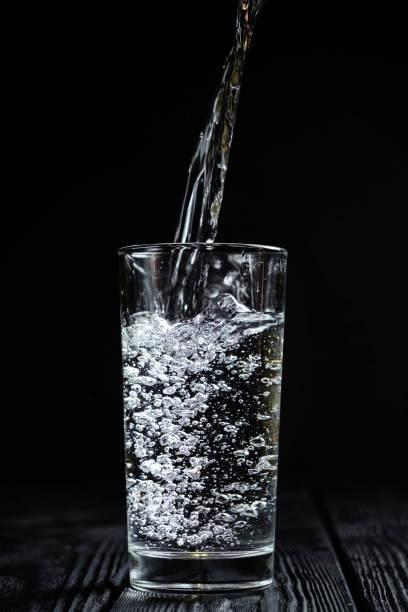glass-normal: (113, 240, 291, 595)
